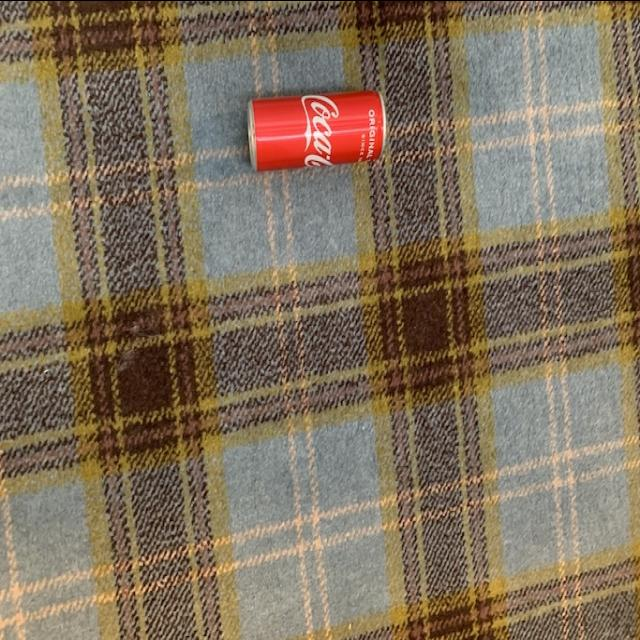litter: (246, 84, 388, 175)
